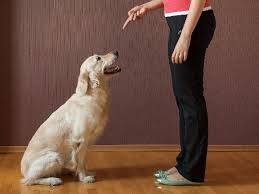dog_sitting: (17, 50, 122, 189)
